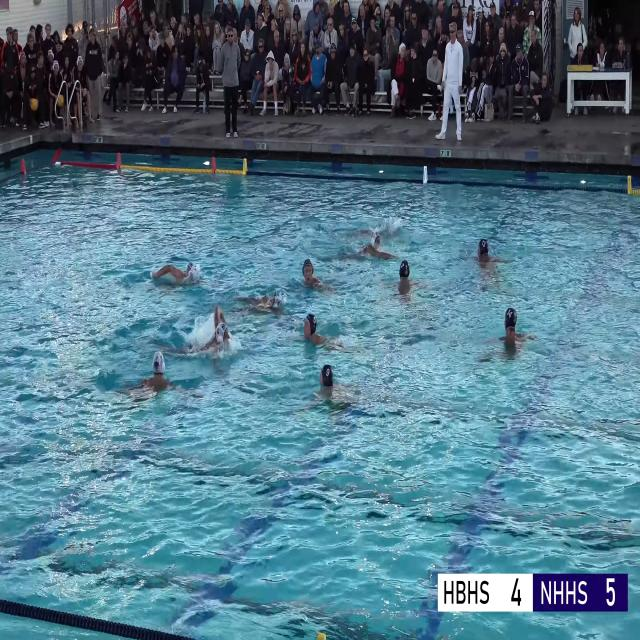ball: (30, 98, 38, 111), (56, 94, 63, 107)
